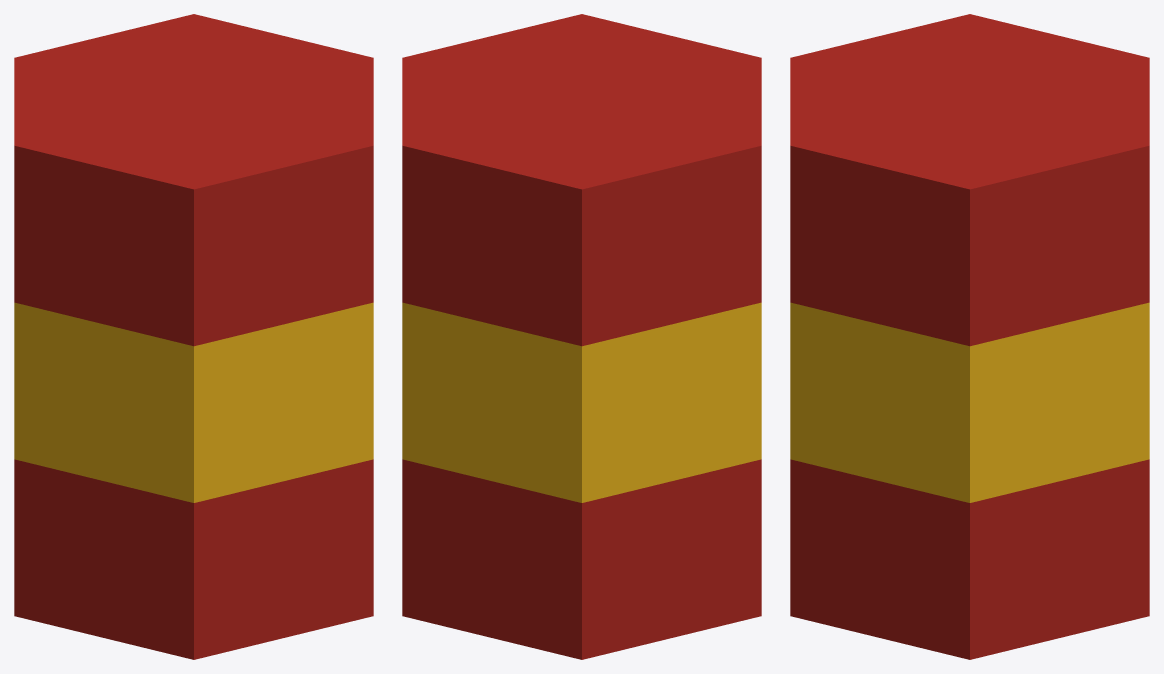
File: barrel_explosive.glb
3 renders of one model, left to right at view 1: azimuth 30°, elevation 25°; view 2: azimuth 150°, elevation 25°; view 3: azimuth 270°, elevation 25°, orthographic.
Visible parts, largest first — view 1: barrel; view 2: barrel; view 3: barrel.
Part boxes in pixels (left/top/right/bottom): barrel: left=14, top=14, right=373, bottom=659; barrel: left=402, top=14, right=761, bottom=659; barrel: left=790, top=14, right=1149, bottom=659.
Size of the model in its own units: 0.76 by 0.95 by 0.6582.
